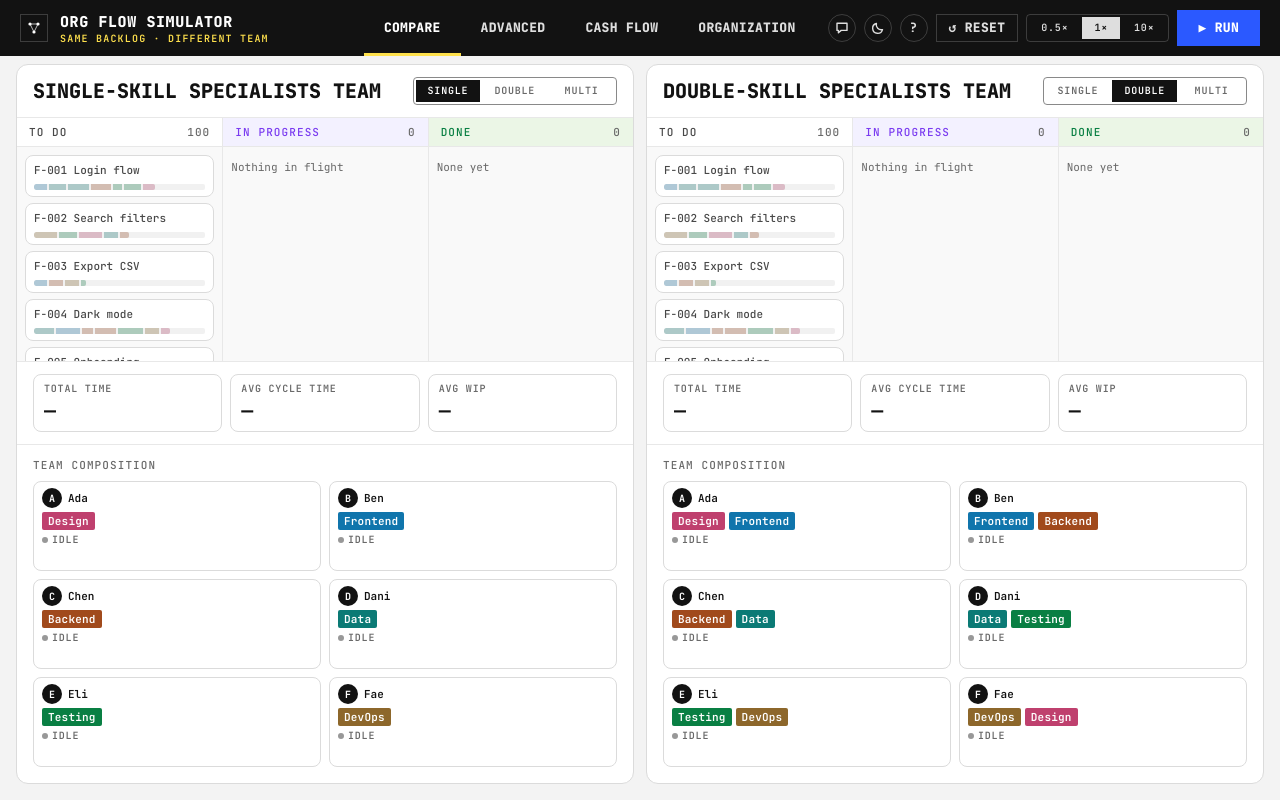
Test: feat-019 Příklad 8: nastavení AI u skillu v Simulatoru › AI nastavené u jednoho chipu nezmění jiný chip téže jednotky ani stejný skill u jiné jednotky
Click the tab "Advanced" at (513, 28), box [461, 0, 565, 56]
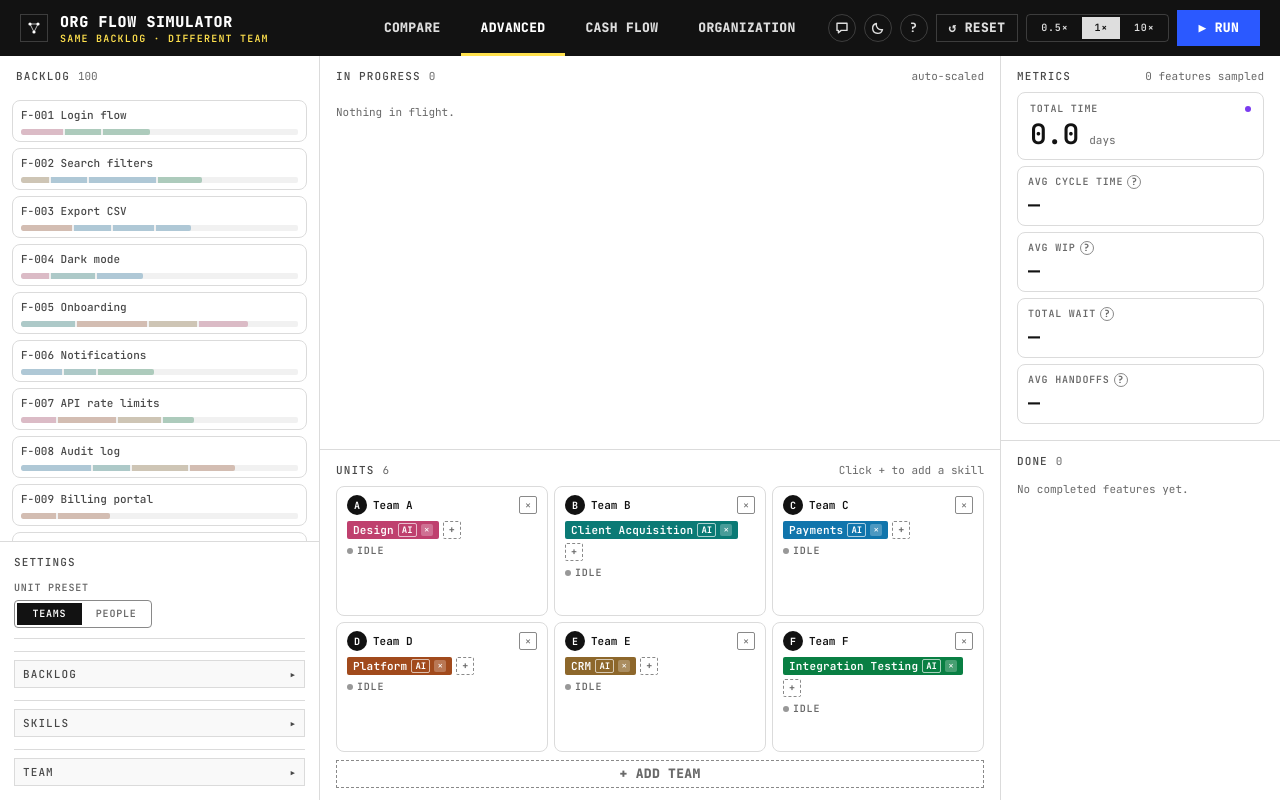
Click the button with aria-label "AI speed-up for " at (407, 530), box [398, 523, 417, 537]
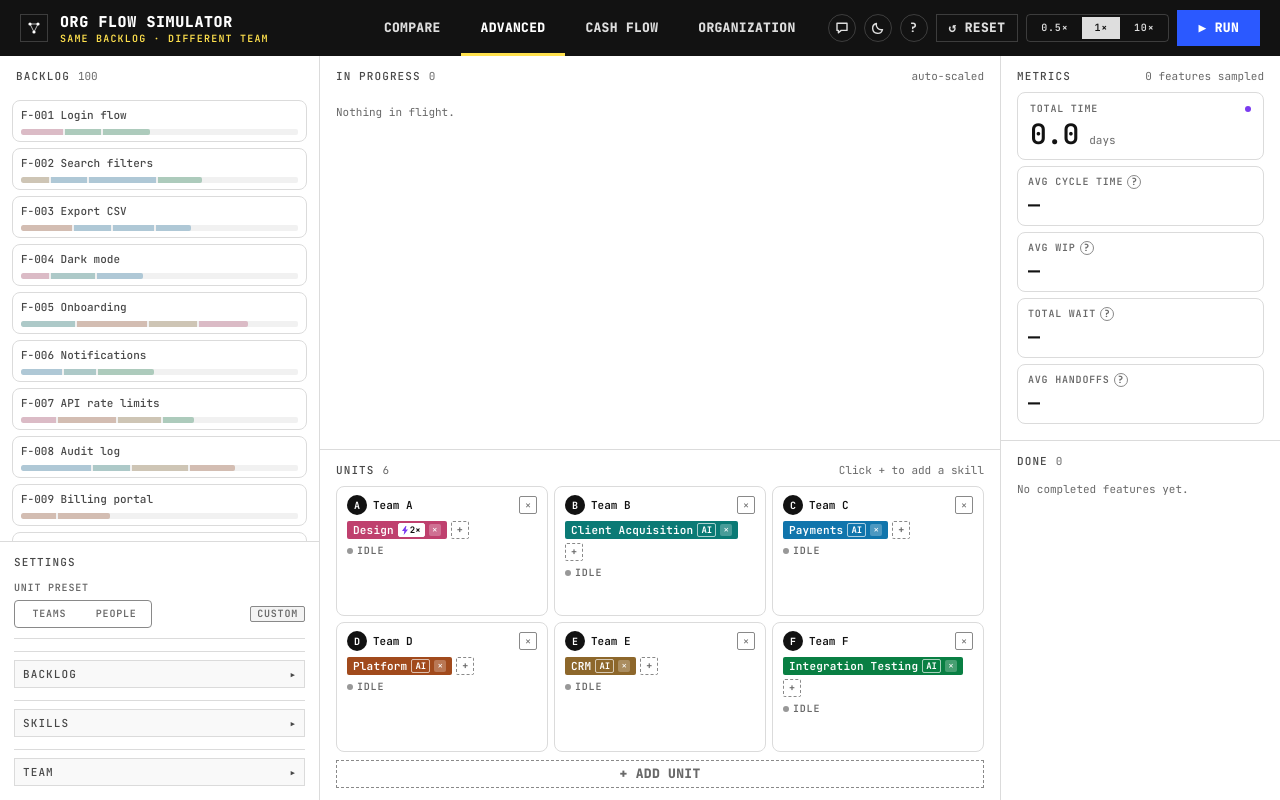
Click the button named "AI speed-up for " at (411, 530), box [398, 523, 425, 537]
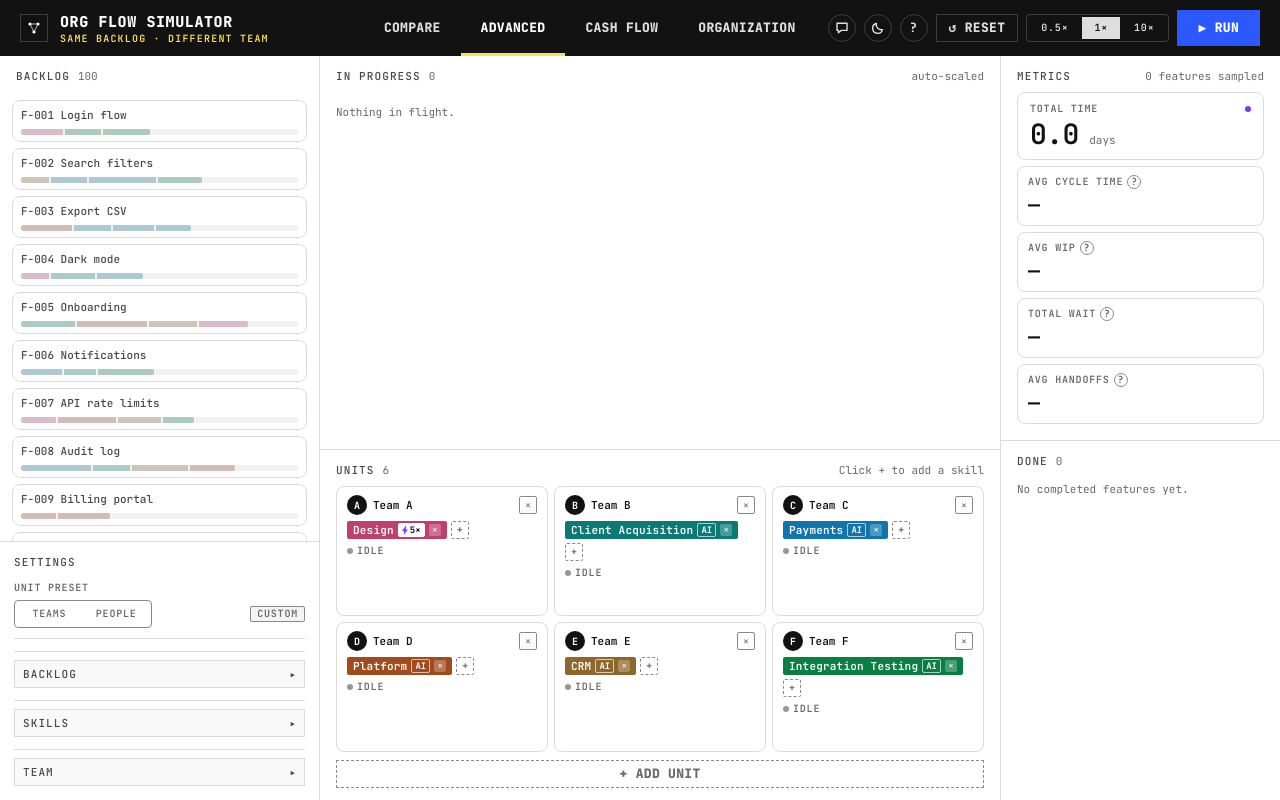
Now the button with aria-label "AI speed-up for " reads "AI", box [697, 523, 716, 537]
Now the button named "AI speed-up for " reads "5×", box [398, 523, 425, 537]
